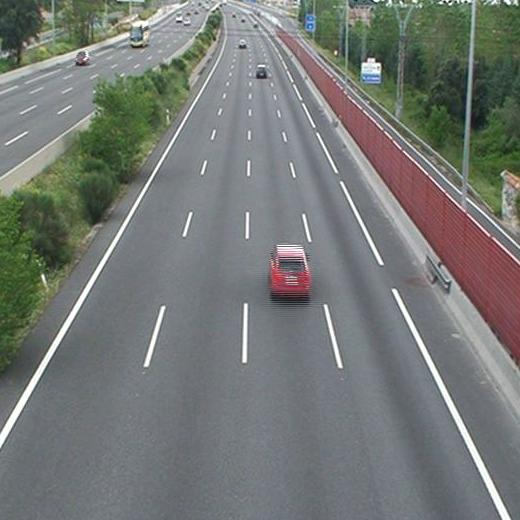car: (268, 245, 311, 295), (255, 64, 268, 77), (237, 39, 246, 48)
